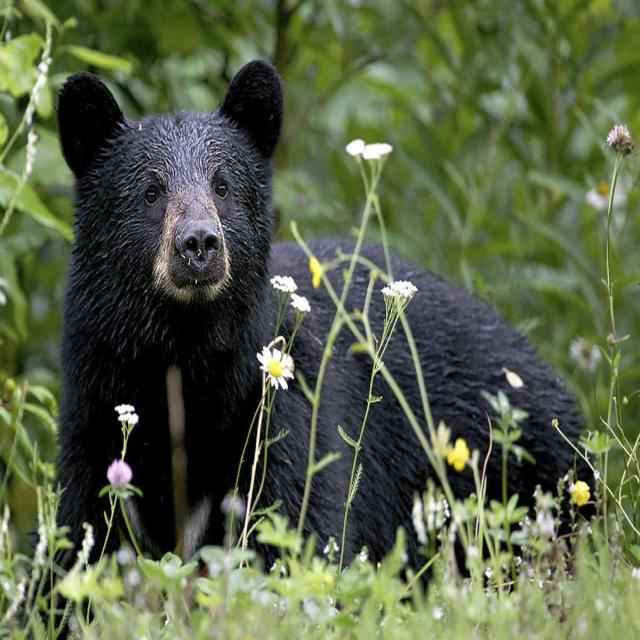Bear: (55, 60, 600, 568)
